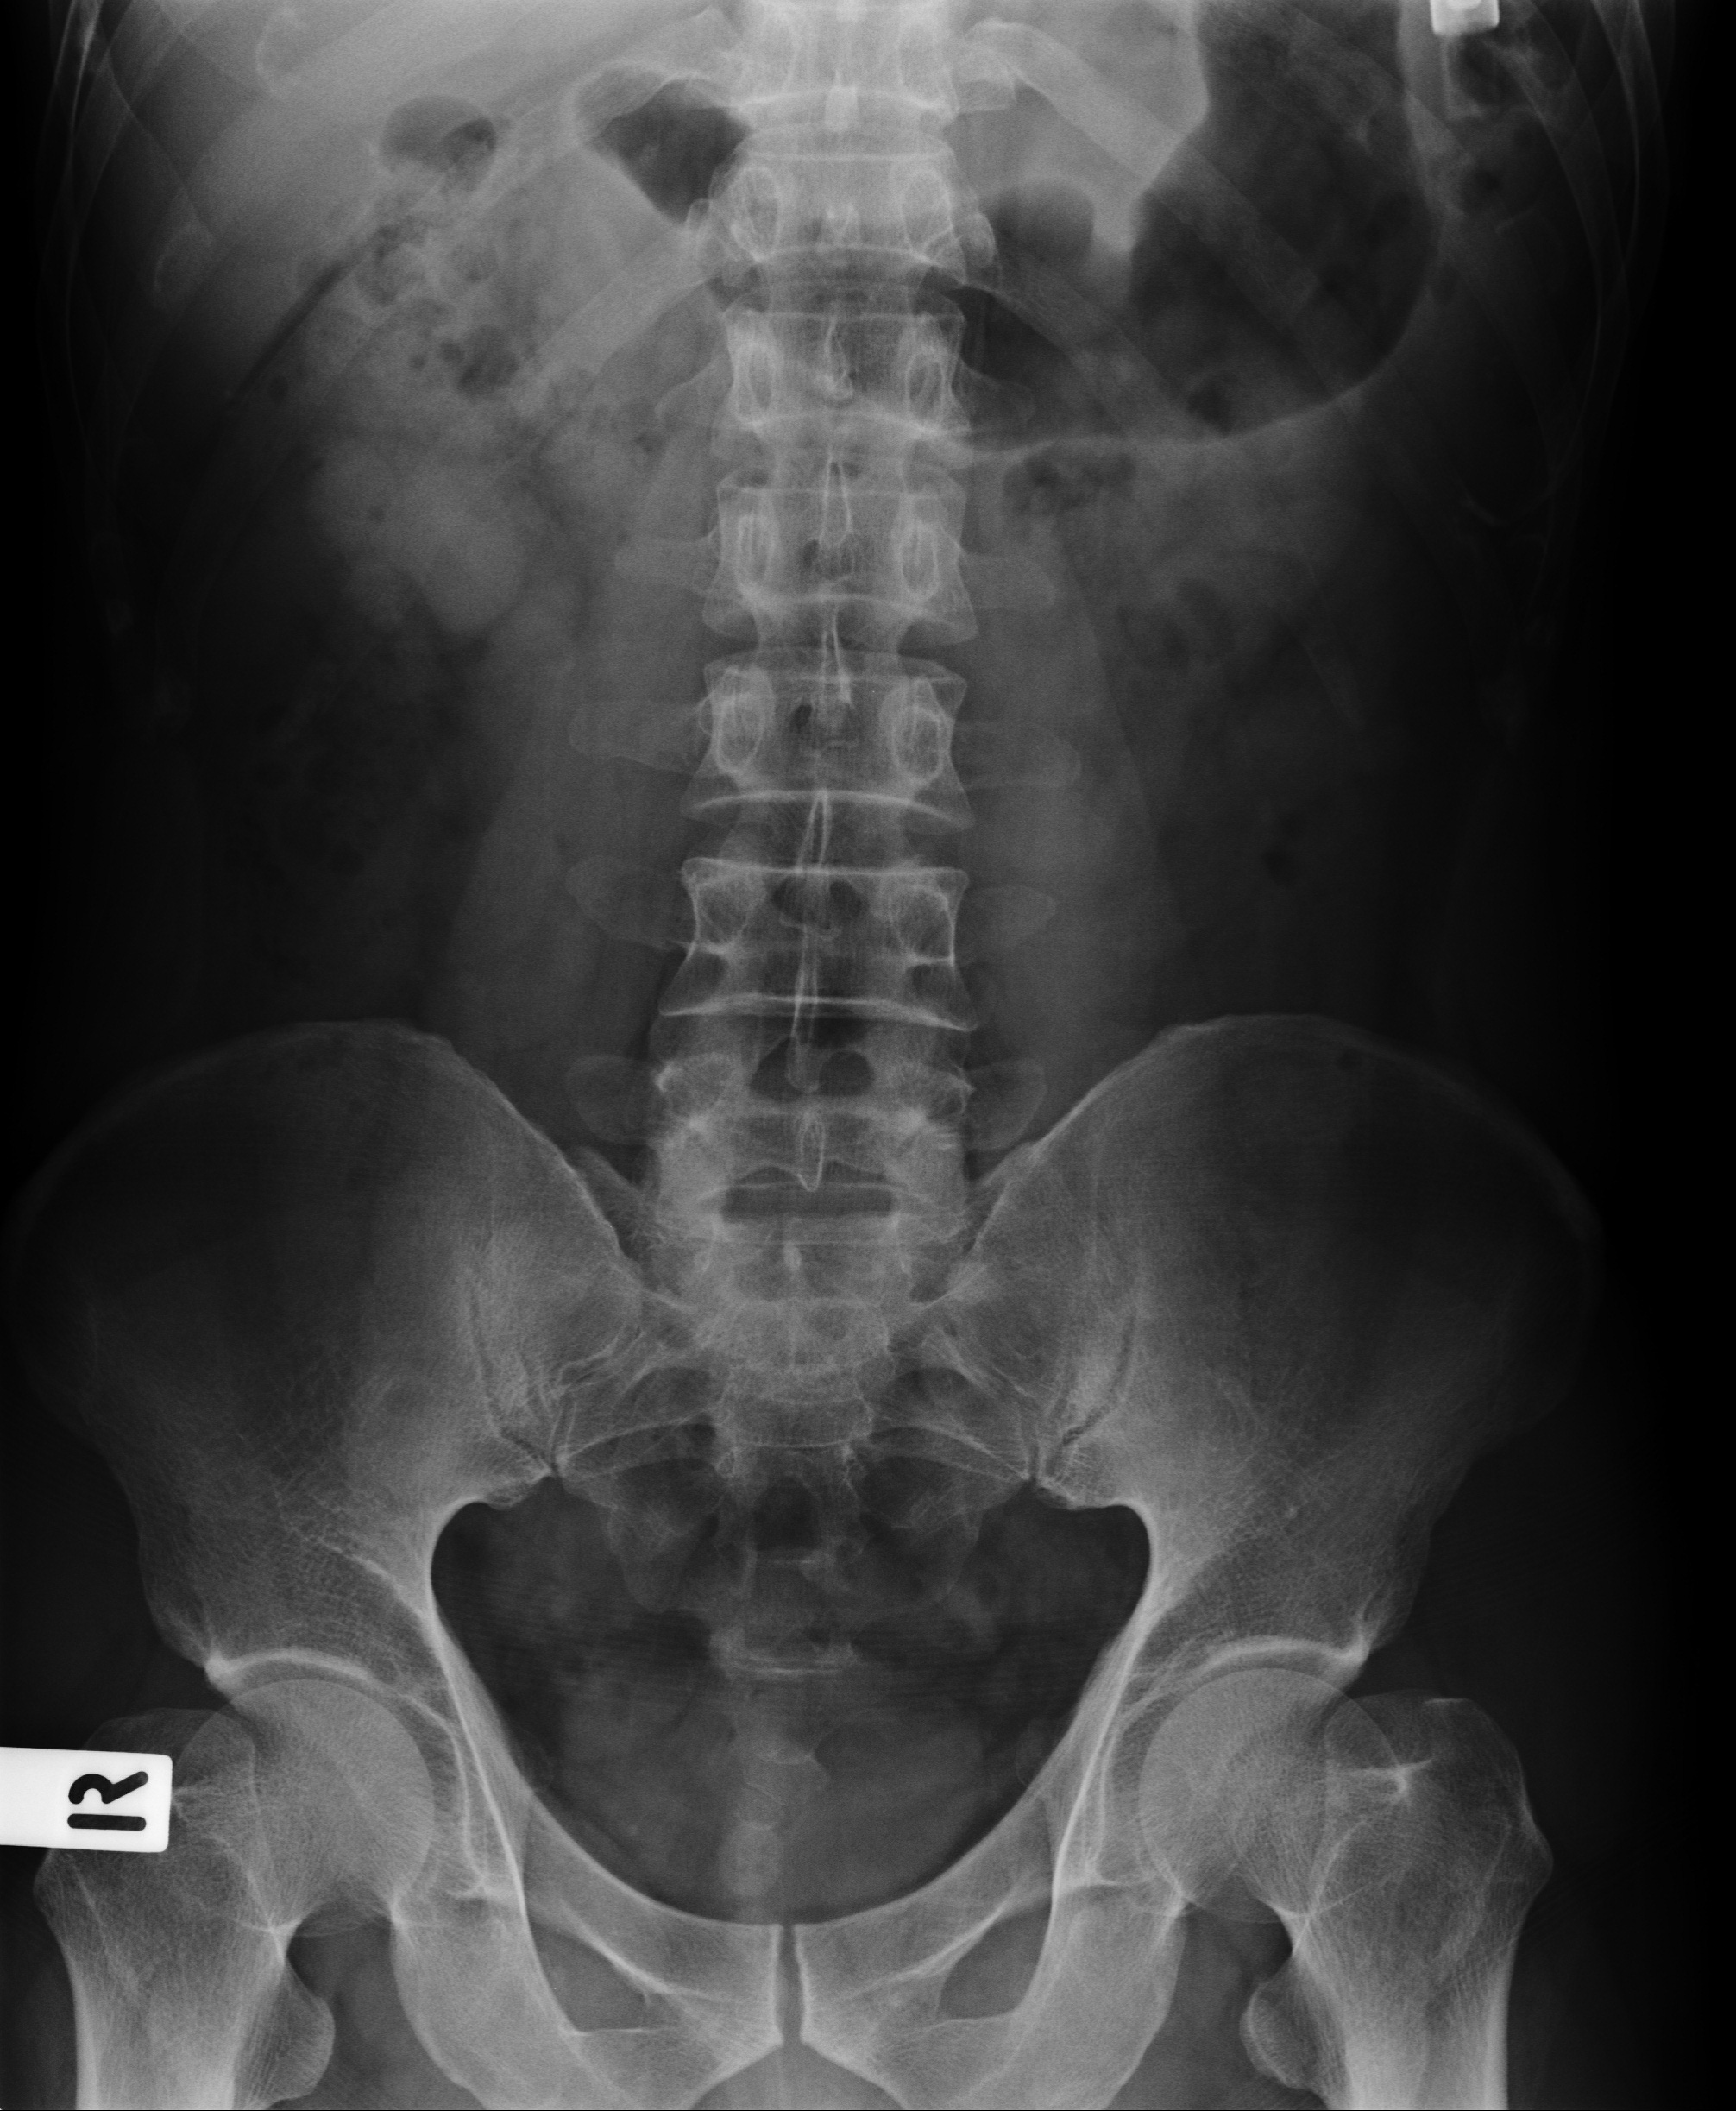lumbar scoliosis: (610, 18, 996, 1245)
